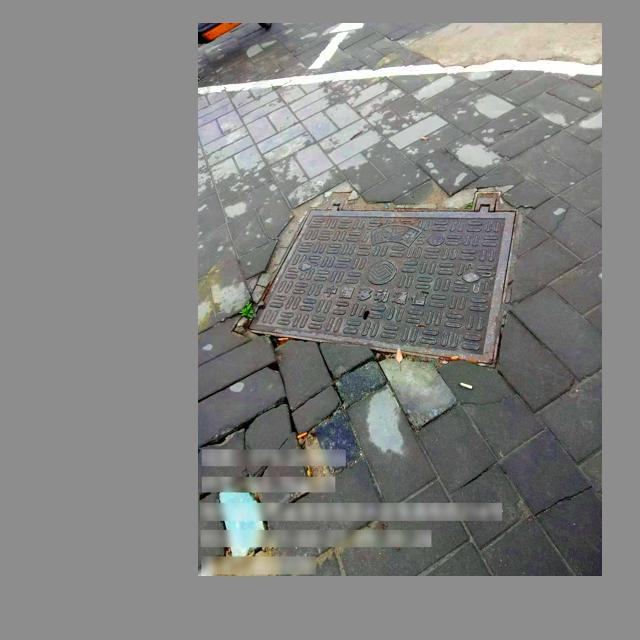good: (246, 194, 519, 367)
